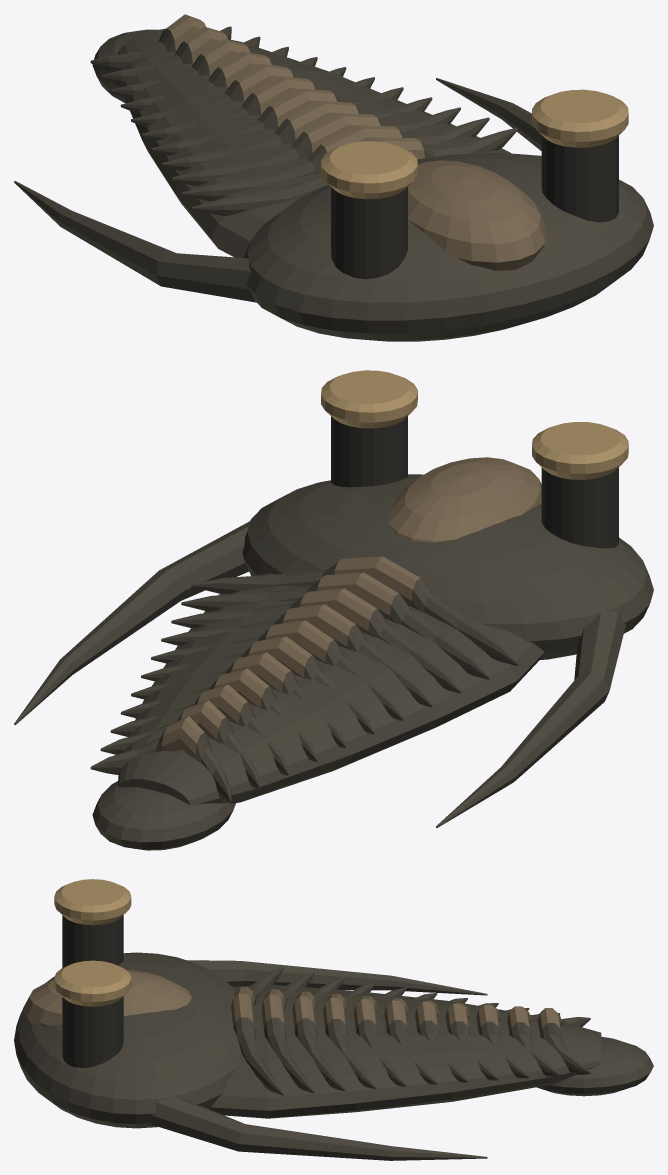
Rendered from erbenochile.glb.
The picture shows the model from 3 angles, top to bottom: view 1: azimuth 30°, elevation 25°; view 2: azimuth 150°, elevation 25°; view 3: azimuth 270°, elevation 25°; orthographic projection. The views are drawn at different scales.
Parts seen in each view (by area): view 1: vaulted-cephalon, eleven-editable-rib-sections, continuous-vaulted-thoracic-shell, central-glabella, left-eye-turret, right-eye-turret, swept-genal-spine--1, swept-genal-spine-1, small-tapering-pygidium; view 2: eleven-editable-rib-sections, continuous-vaulted-thoracic-shell, vaulted-cephalon, left-eye-turret, central-glabella, right-eye-turret, swept-genal-spine-1, swept-genal-spine--1, small-tapering-pygidium; view 3: continuous-vaulted-thoracic-shell, vaulted-cephalon, eleven-editable-rib-sections, swept-genal-spine-1, right-eye-turret, left-eye-turret, swept-genal-spine--1, central-glabella, small-tapering-pygidium.
Part boxes in pixels (bbox=[...]): vaulted-cephalon: bbox=[244, 153, 653, 341]; eleven-editable-rib-sections: bbox=[90, 14, 518, 215]; continuous-vaulted-thoracic-shell: bbox=[118, 28, 510, 257]; central-glabella: bbox=[408, 160, 545, 270]; left-eye-turret: bbox=[321, 141, 417, 279]; right-eye-turret: bbox=[532, 89, 628, 222]; swept-genal-spine--1: bbox=[14, 181, 256, 302]; swept-genal-spine-1: bbox=[436, 78, 541, 150]; small-tapering-pygidium: bbox=[92, 29, 157, 103]; eleven-editable-rib-sections: bbox=[90, 556, 518, 803]; continuous-vaulted-thoracic-shell: bbox=[117, 573, 544, 805]; vaulted-cephalon: bbox=[242, 474, 653, 659]; left-eye-turret: bbox=[532, 422, 628, 548]; central-glabella: bbox=[389, 457, 541, 542]; right-eye-turret: bbox=[321, 370, 417, 487]; swept-genal-spine-1: bbox=[14, 521, 249, 724]; swept-genal-spine--1: bbox=[436, 610, 625, 827]; small-tapering-pygidium: bbox=[92, 781, 235, 850]; continuous-vaulted-thoracic-shell: bbox=[209, 985, 601, 1118]; vaulted-cephalon: bbox=[14, 952, 241, 1128]; eleven-editable-rib-sections: bbox=[231, 967, 590, 1095]; swept-genal-spine-1: bbox=[150, 1096, 487, 1160]; right-eye-turret: bbox=[54, 960, 131, 1067]; left-eye-turret: bbox=[54, 879, 131, 967]; swept-genal-spine--1: bbox=[187, 960, 487, 995]; central-glabella: bbox=[23, 970, 192, 1026]; small-tapering-pygidium: bbox=[537, 1036, 653, 1096].
Size of the model in its own units: 0.0478 by 0.0195 by 0.073.
